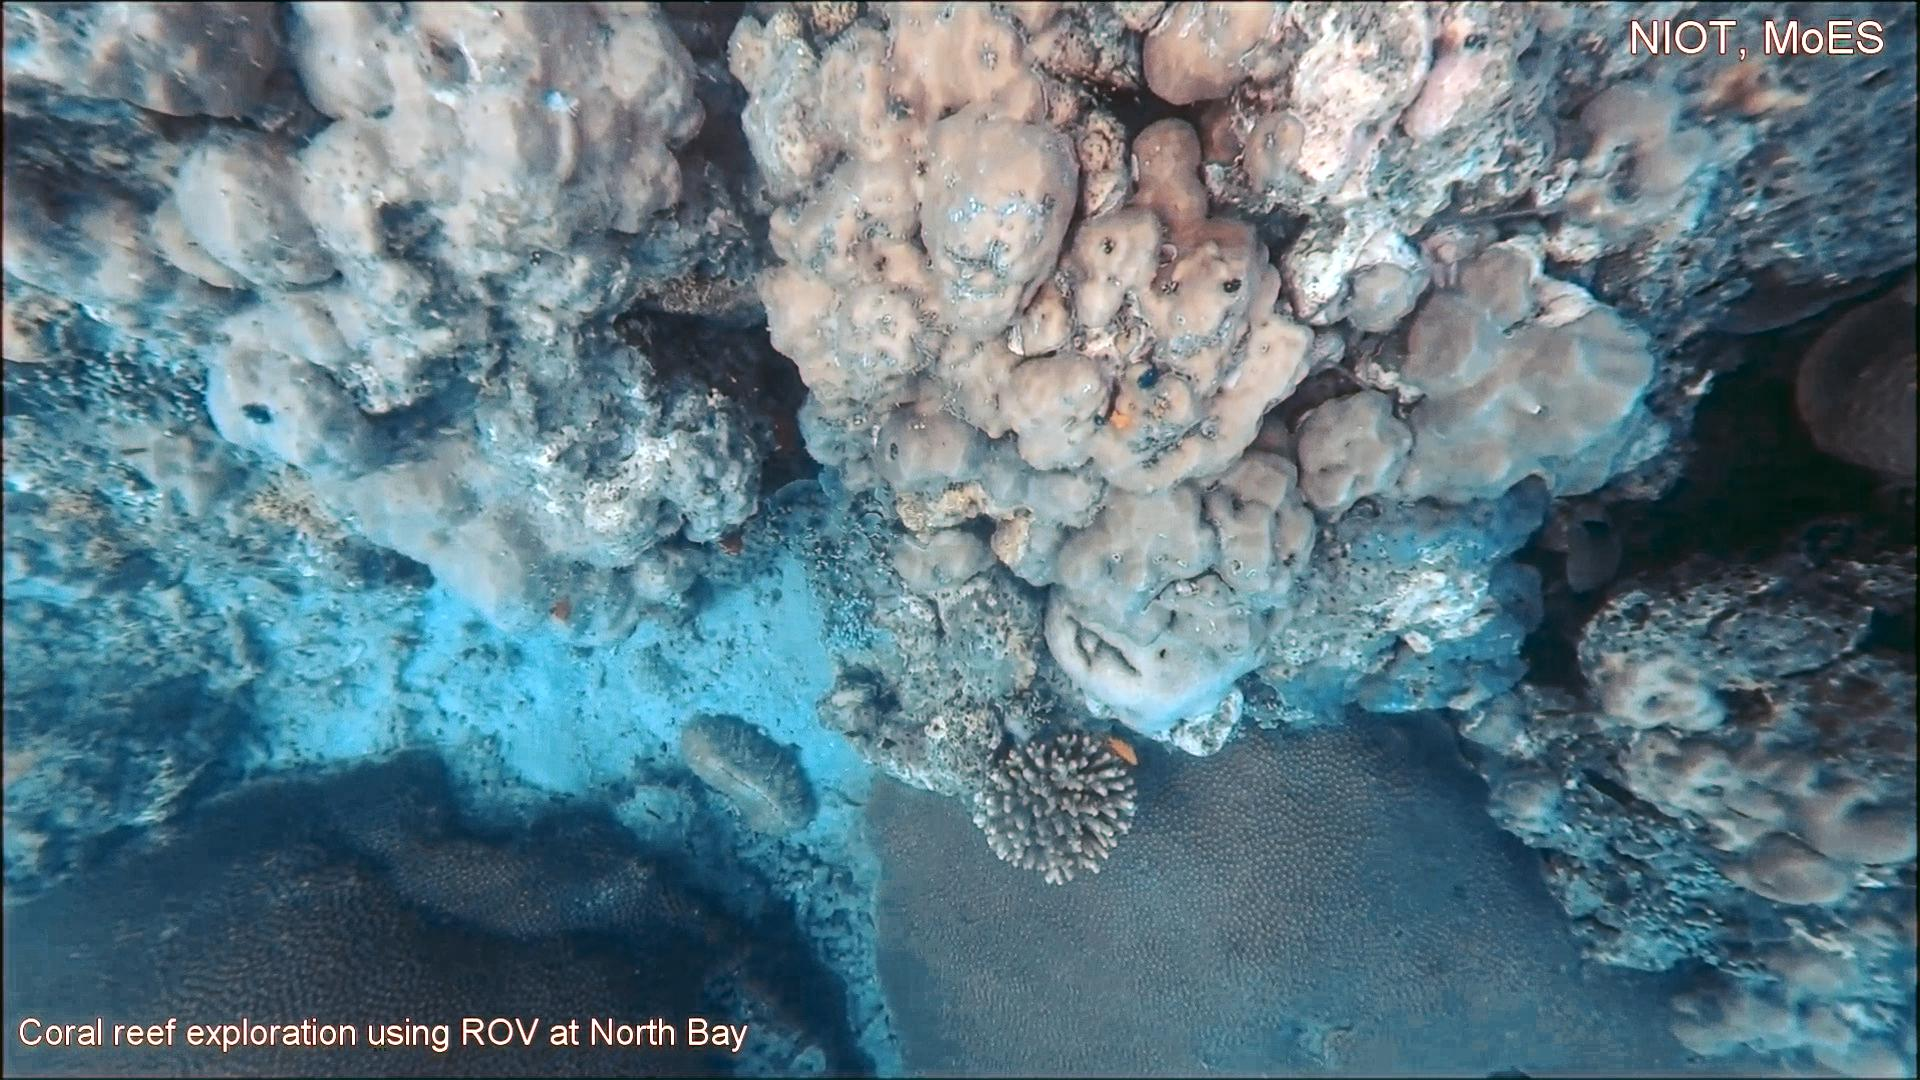Meandrina meandrites: (1784, 251, 1920, 493)
